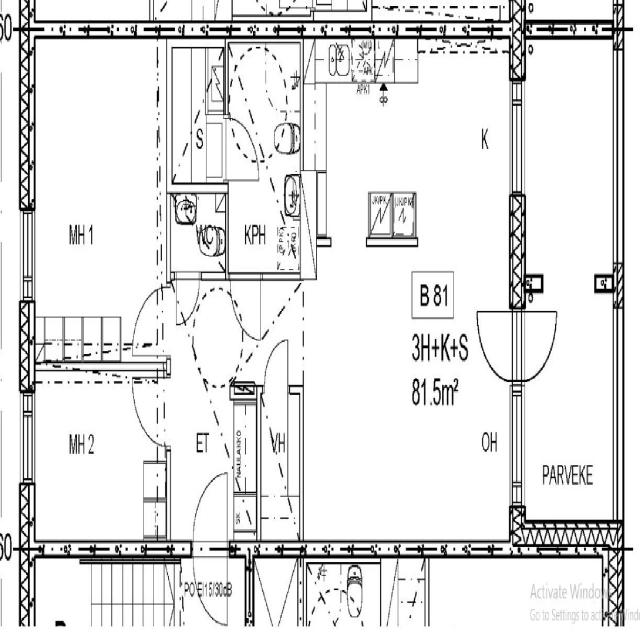door: (474, 304, 524, 382), (190, 465, 231, 553), (513, 305, 559, 383), (230, 268, 264, 342), (131, 373, 163, 448), (132, 288, 162, 347), (262, 336, 292, 393), (174, 268, 203, 326)
window: (507, 81, 528, 203), (508, 387, 526, 505), (19, 203, 38, 310), (20, 399, 37, 490), (261, 267, 299, 288)
zone: (301, 26, 514, 552), (518, 32, 618, 535), (27, 36, 163, 362), (30, 372, 164, 552), (227, 37, 304, 269), (166, 38, 225, 185), (258, 373, 302, 536), (168, 186, 229, 272)
